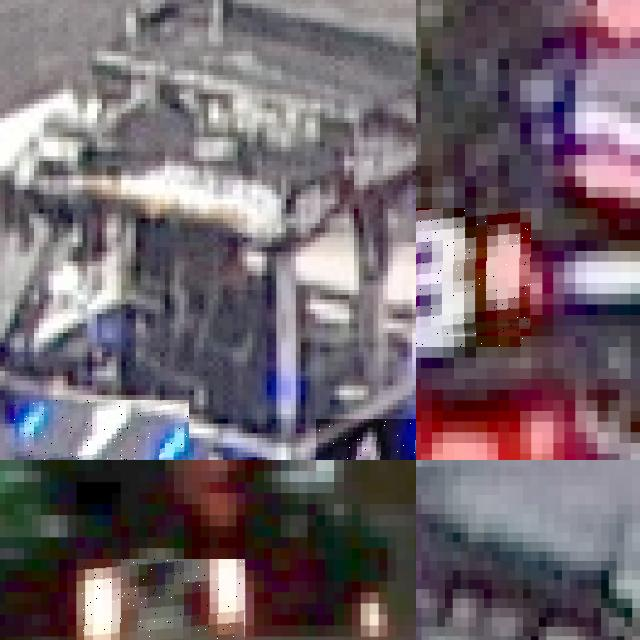B1: (9, 400, 189, 460), (315, 419, 416, 460)
R3: (416, 208, 531, 346)
Rs: (76, 559, 245, 640)
